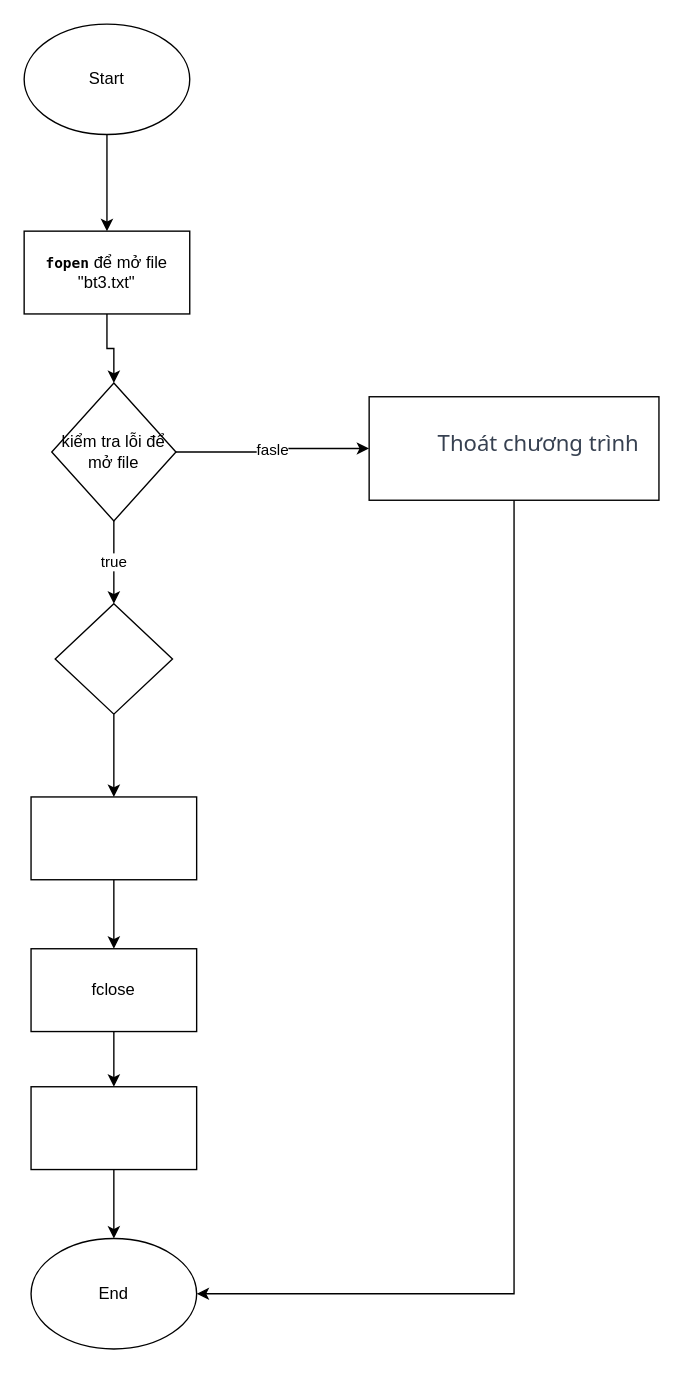
The diagram is 683 pixels wide and 1373 high, and some of its shapes have lost their labels. The box of each missing label's shape, as (x1, y1, x2, y2) in pixels:
In số dòng đã đếm và nội dung ra màn hình.: (30, 1085, 197, 1170)
while: (54, 602, 172, 714)
đọc và in từng dòng từ file ra: (30, 796, 197, 880)
